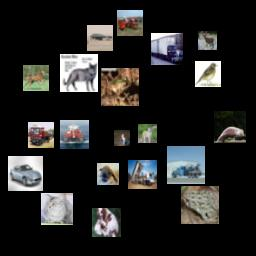airplane: (87, 25, 113, 51), (117, 10, 143, 36)
automobile: (8, 156, 43, 191)
bird: (214, 111, 246, 143), (195, 61, 221, 87), (114, 130, 130, 146)
cat: (60, 54, 98, 92), (41, 193, 73, 225), (138, 124, 157, 143)
deer: (198, 31, 217, 50)
dog: (92, 208, 121, 237), (97, 163, 119, 185)
frog: (101, 68, 139, 106), (181, 186, 219, 224)
ship: (60, 120, 89, 149)
truck: (167, 146, 205, 184), (151, 33, 183, 65), (128, 160, 157, 189), (28, 122, 54, 148)
